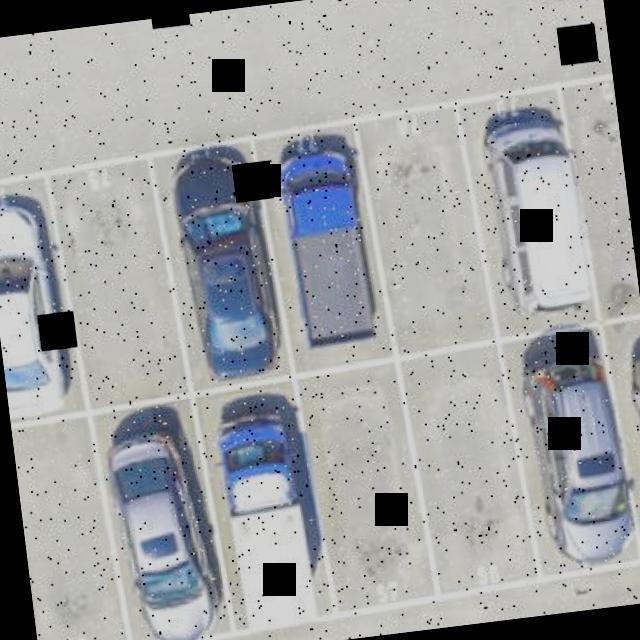car: (208, 381, 340, 638), (94, 417, 237, 640), (512, 339, 640, 588), (468, 92, 596, 328), (173, 150, 286, 386), (268, 136, 386, 354), (0, 196, 77, 413), (619, 314, 640, 566)
free: (44, 153, 190, 410), (356, 105, 496, 352), (400, 346, 538, 594), (301, 364, 434, 608), (10, 414, 132, 640), (562, 70, 640, 317)
